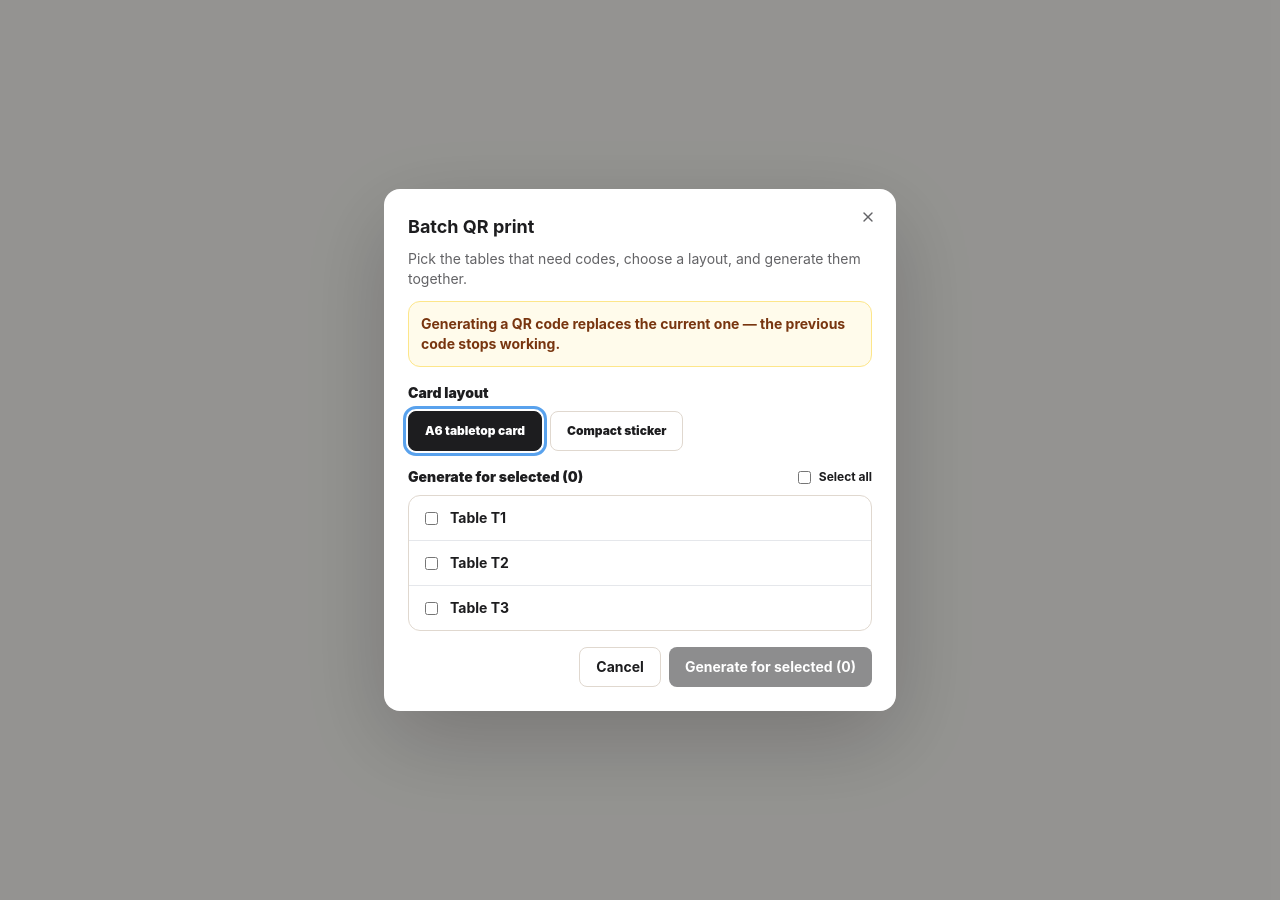
it: TableQrBatchDialog › surfaces a batch failure instead of opening the preview
The image size is (1280, 900).
Click the checkbox with test id "batch-table-T1": {"x": 432, "y": 518} [425,512,438,524]
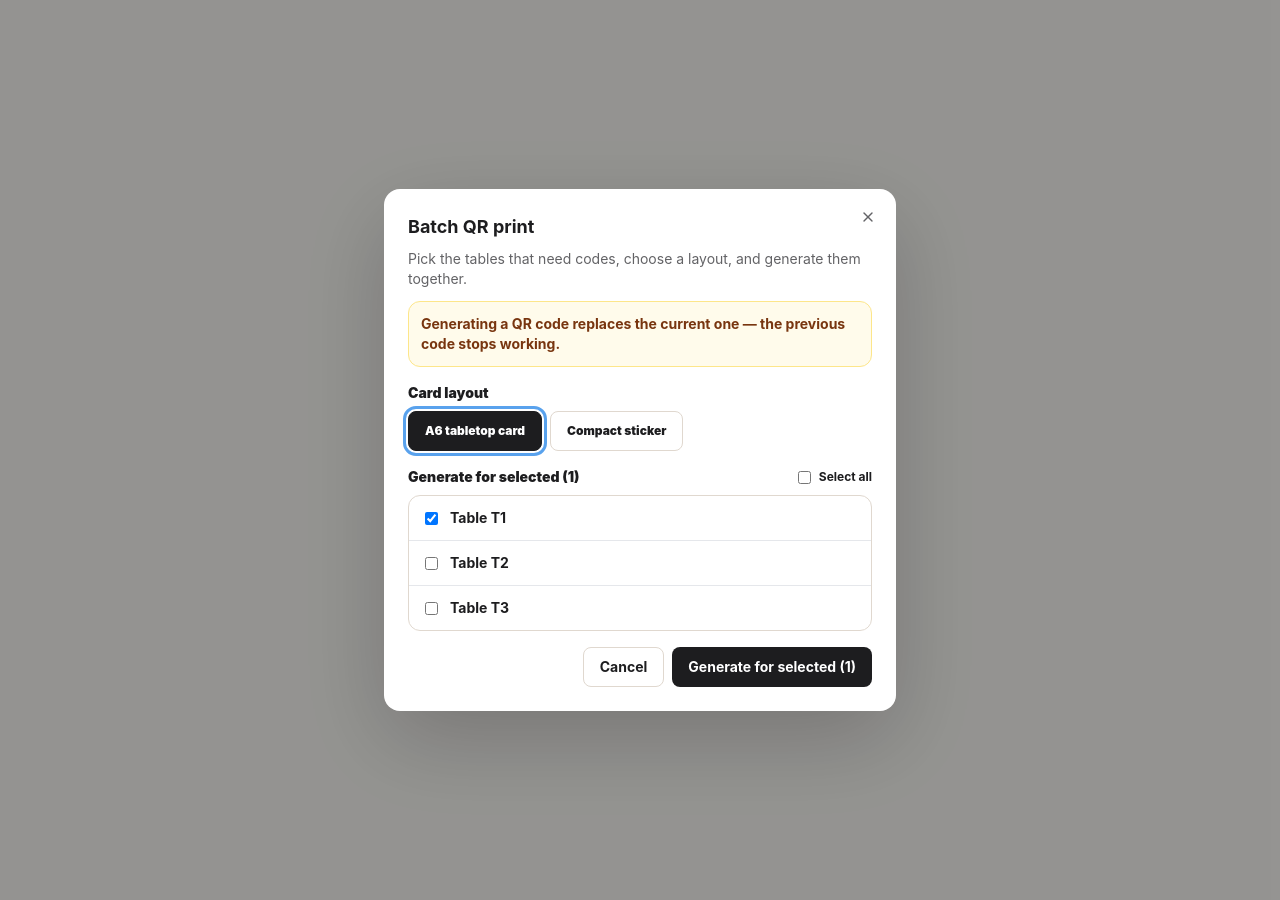
Click the button with test id "batch-generate": {"x": 772, "y": 667} [672,647,872,687]
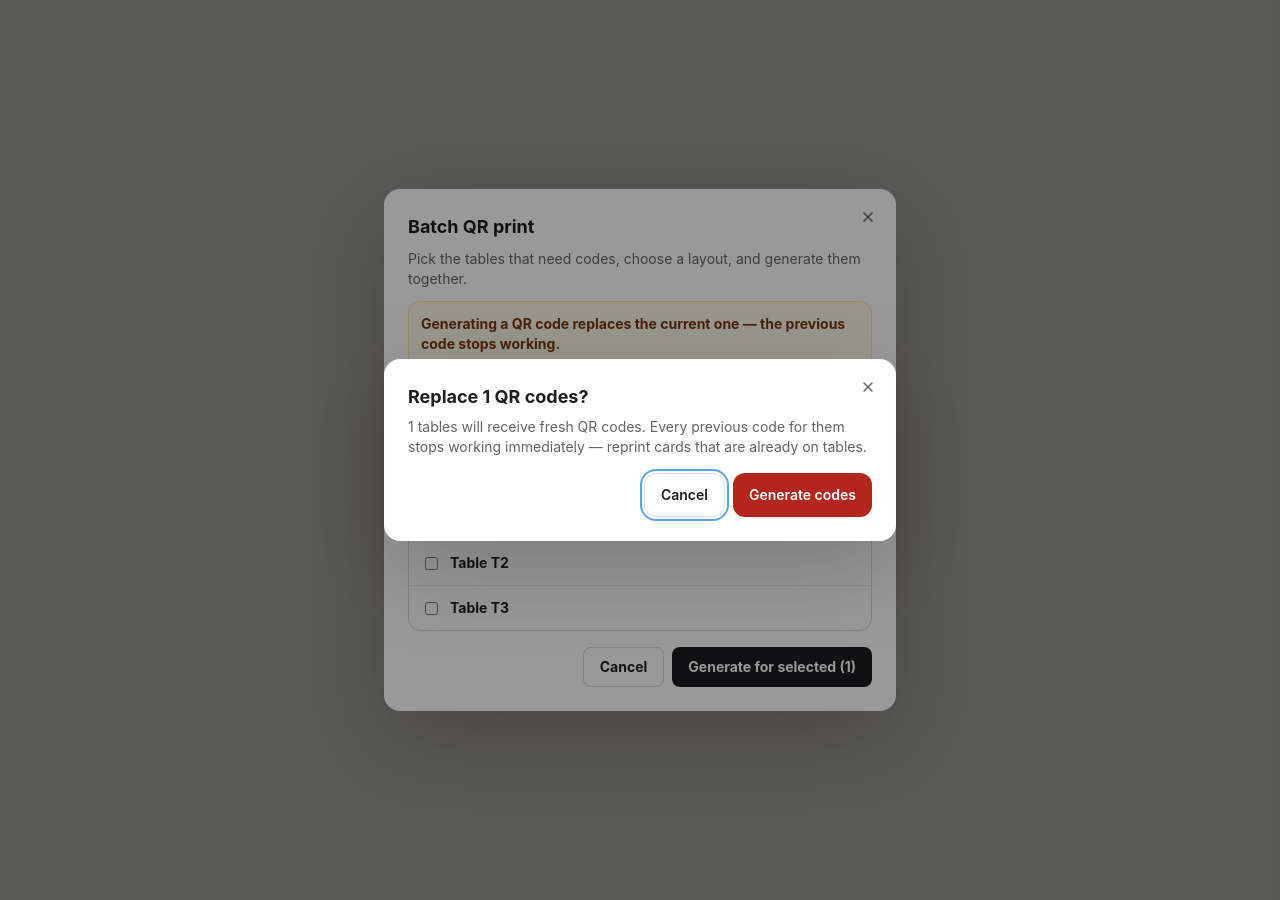
Click the button "Generate codes": {"x": 802, "y": 495} [733,473,872,517]
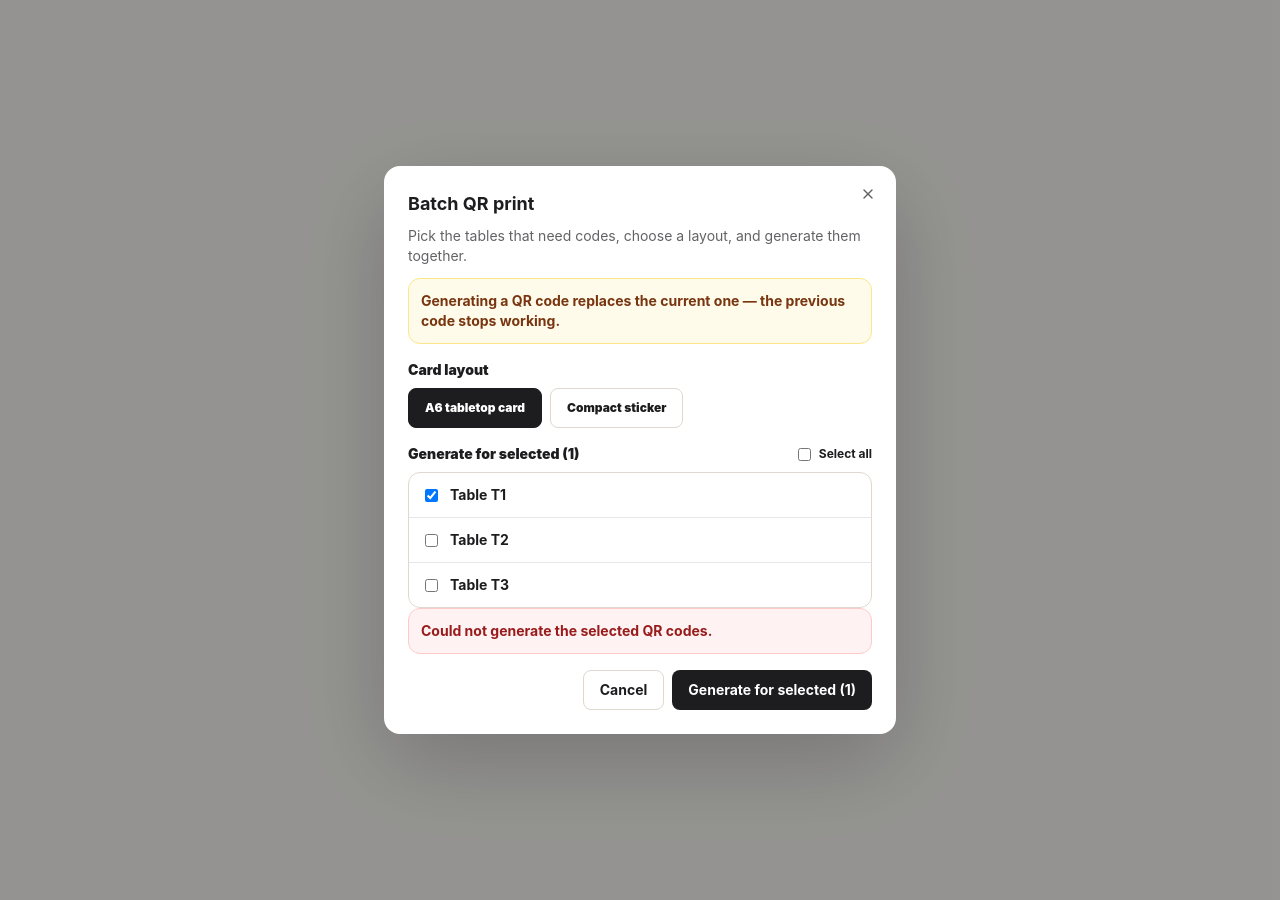
Check: the message reads "Could not generate the selected QR codes.", box [421,622,712,639]
